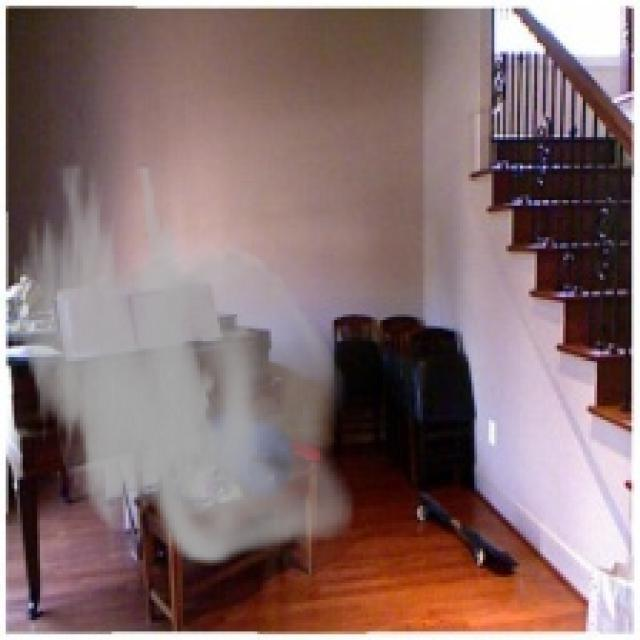Smoke: (2, 163, 354, 566)
